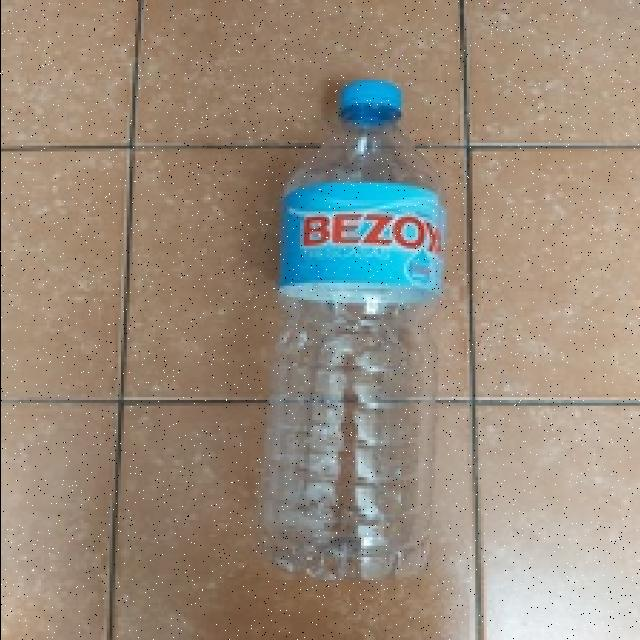plastic: (252, 74, 442, 600)
